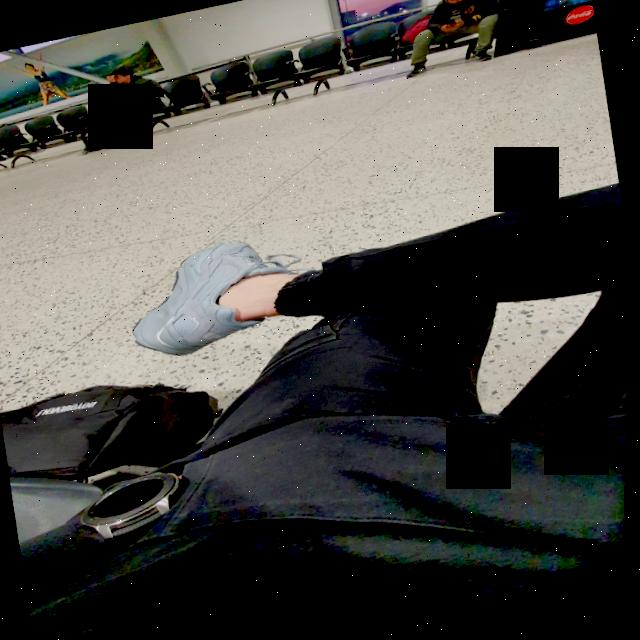shoe: (105, 214, 335, 370)
